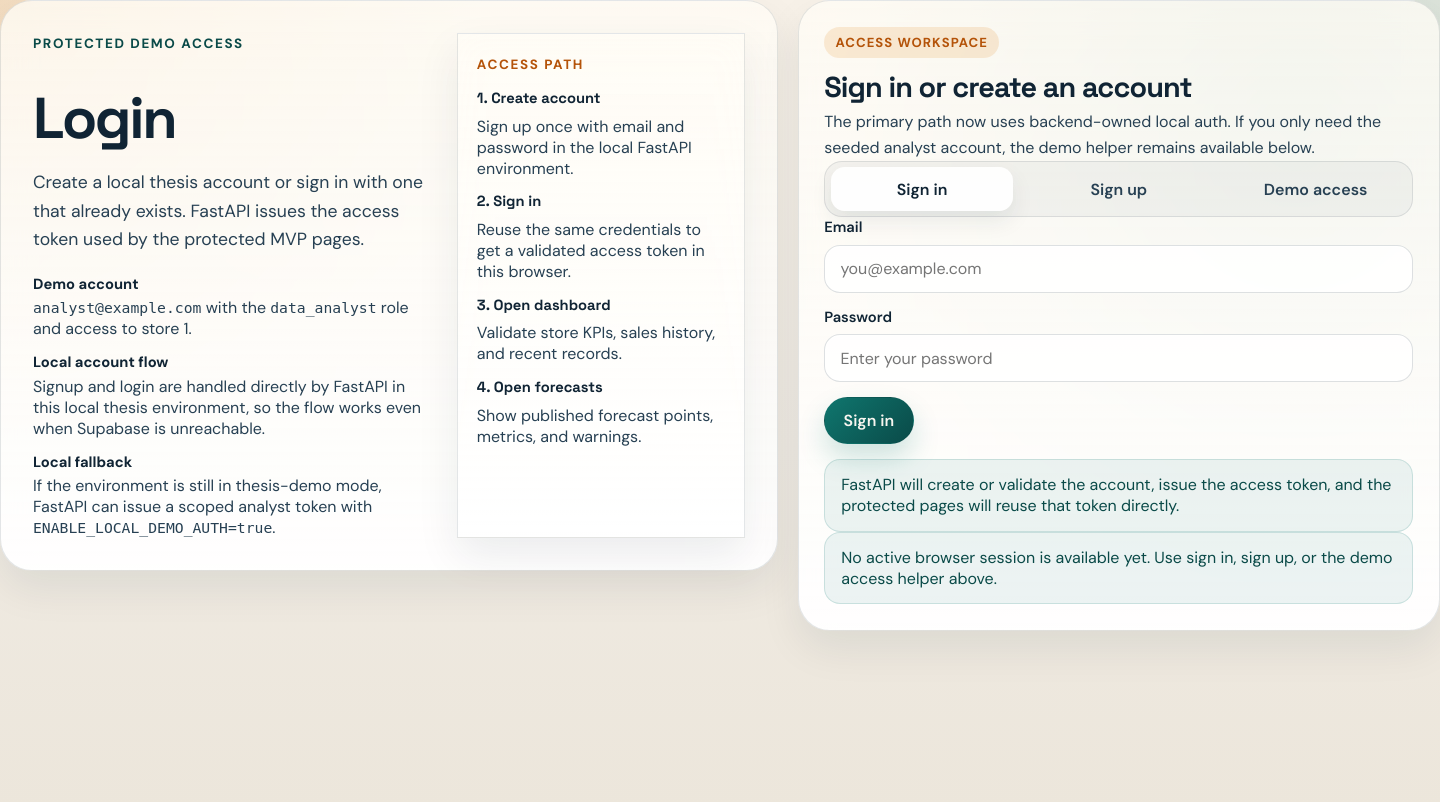
Test: LoginPage › creates an account through the backend-owned signup flow
The width and height of the screenshot is (1440, 802).
Click the button with aria-label "Switch to sign up": [1119, 189] box [1028, 167, 1210, 211]
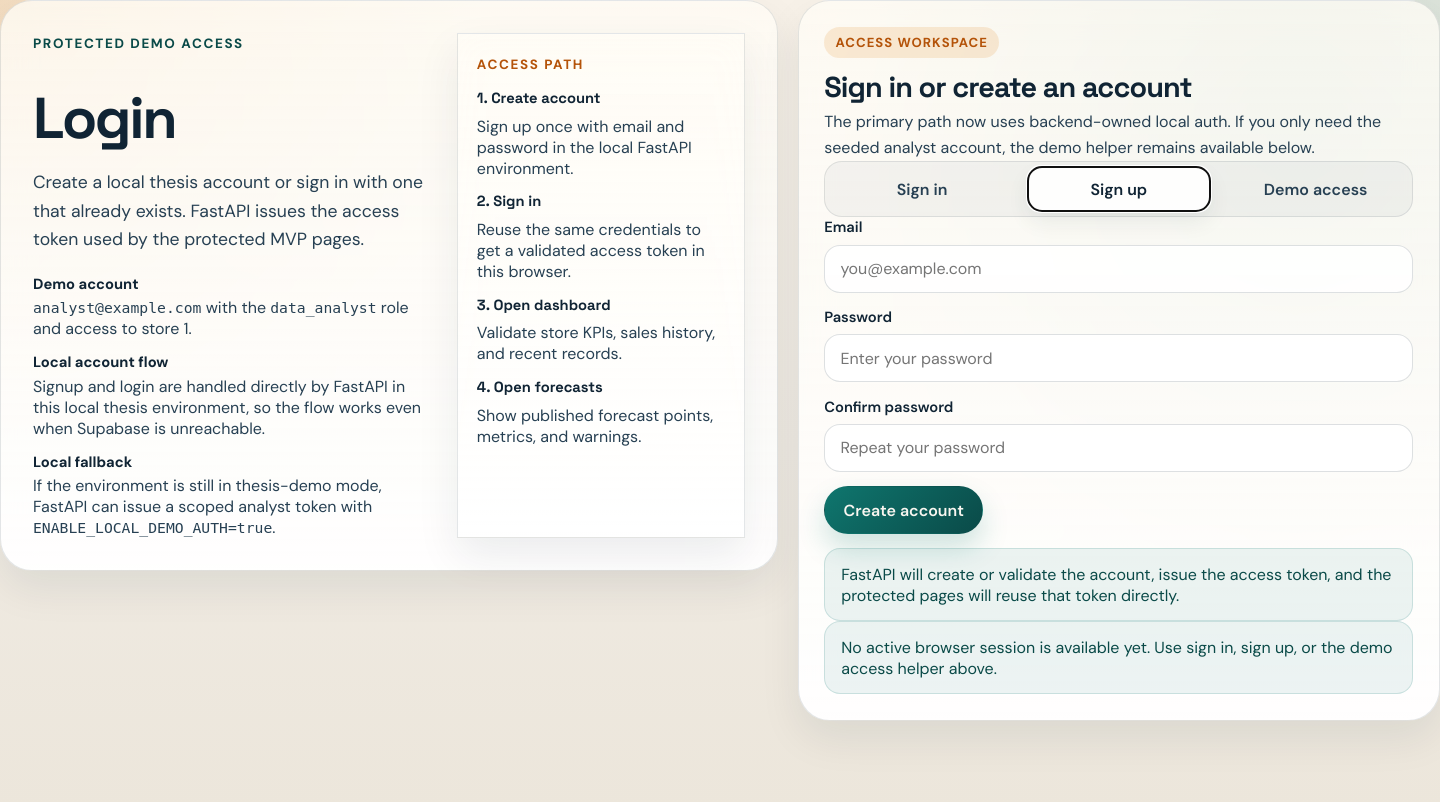
In the field labelled "Email": [1119, 268] box [824, 244, 1413, 292], type "new-user@example.com"
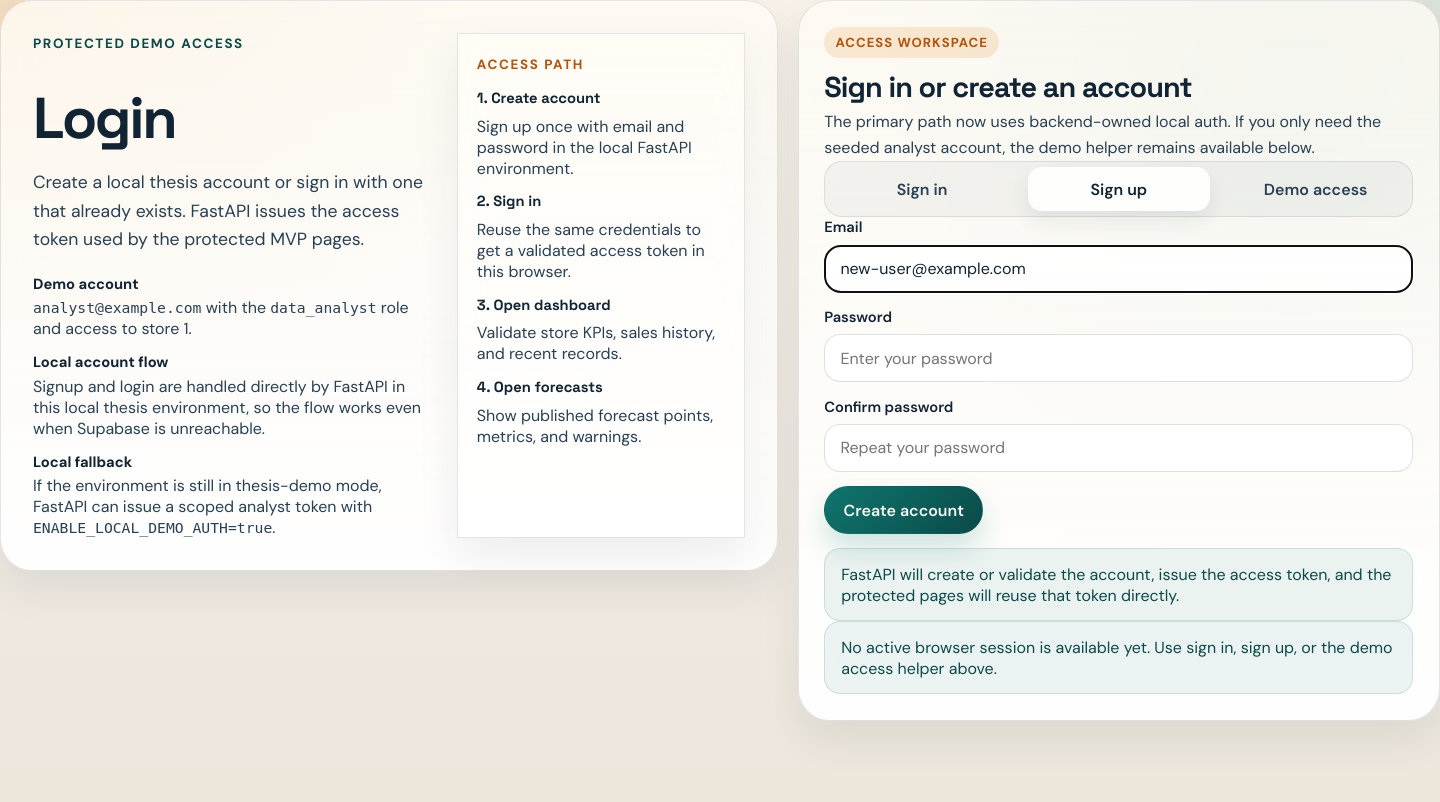
In the password field labelled "Password": [1119, 358] box [824, 334, 1413, 382], type "password-123"
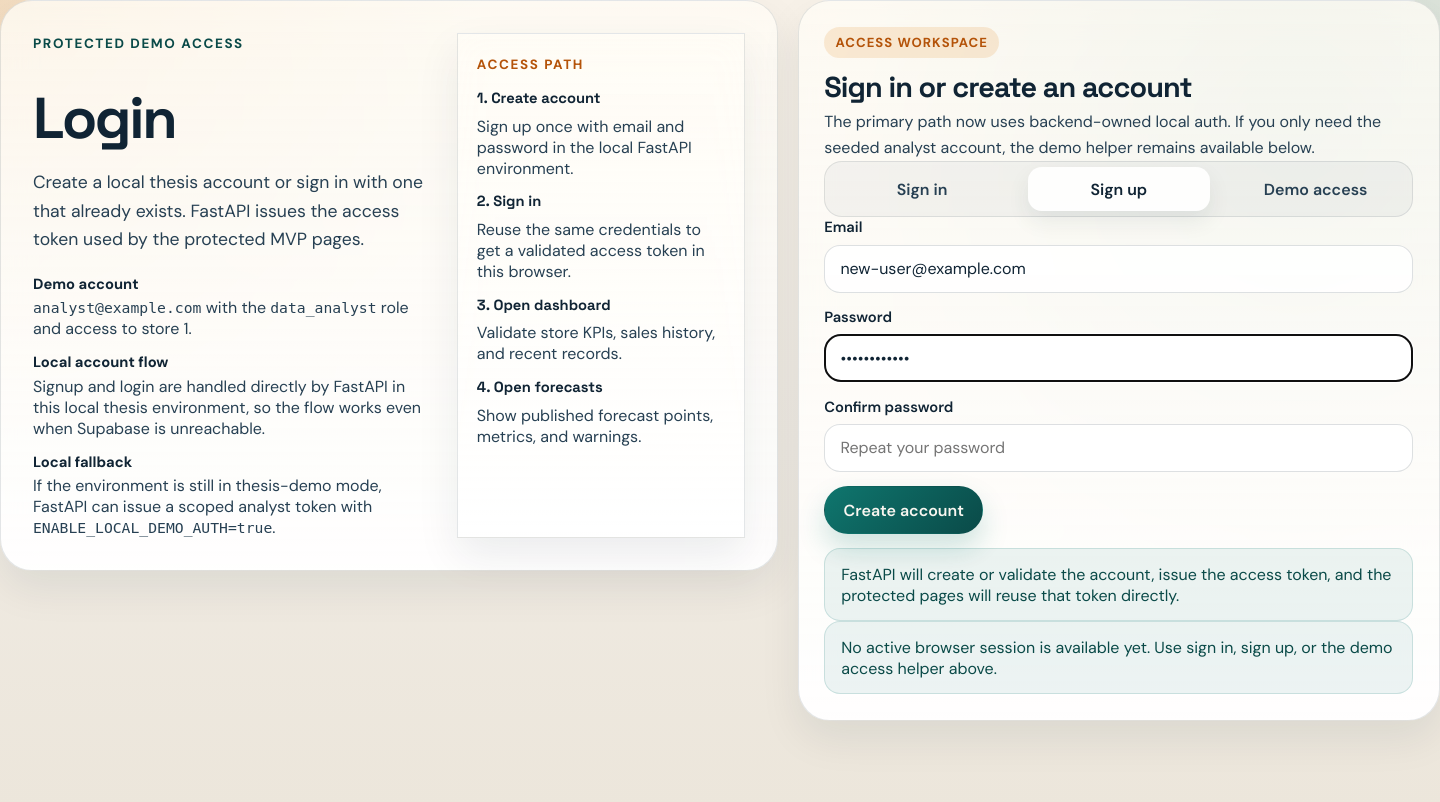
In the password field labelled "Confirm password": [1119, 448] box [824, 424, 1413, 472], type "password-123"
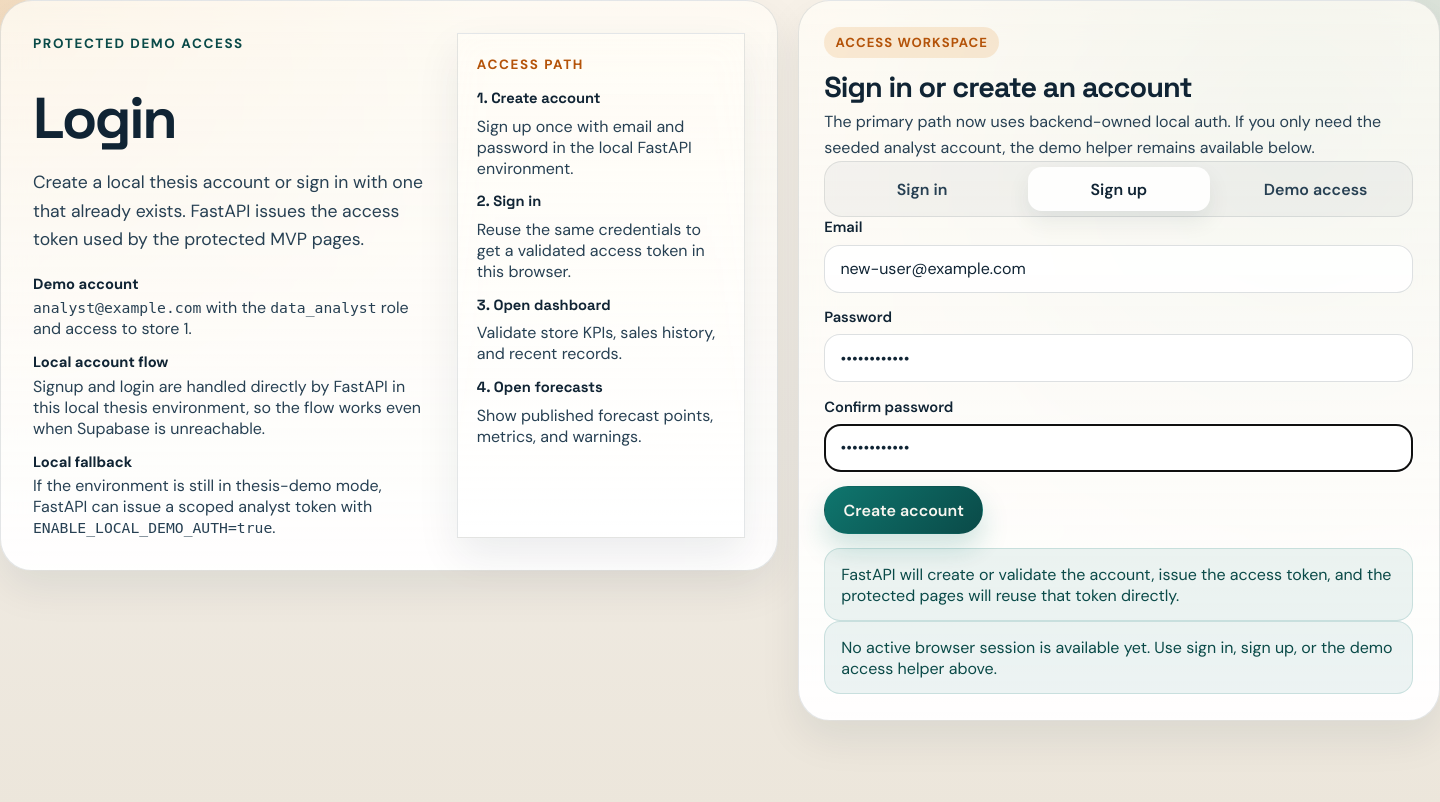
Click the button named "Submit sign up": [904, 510] box [824, 486, 983, 534]
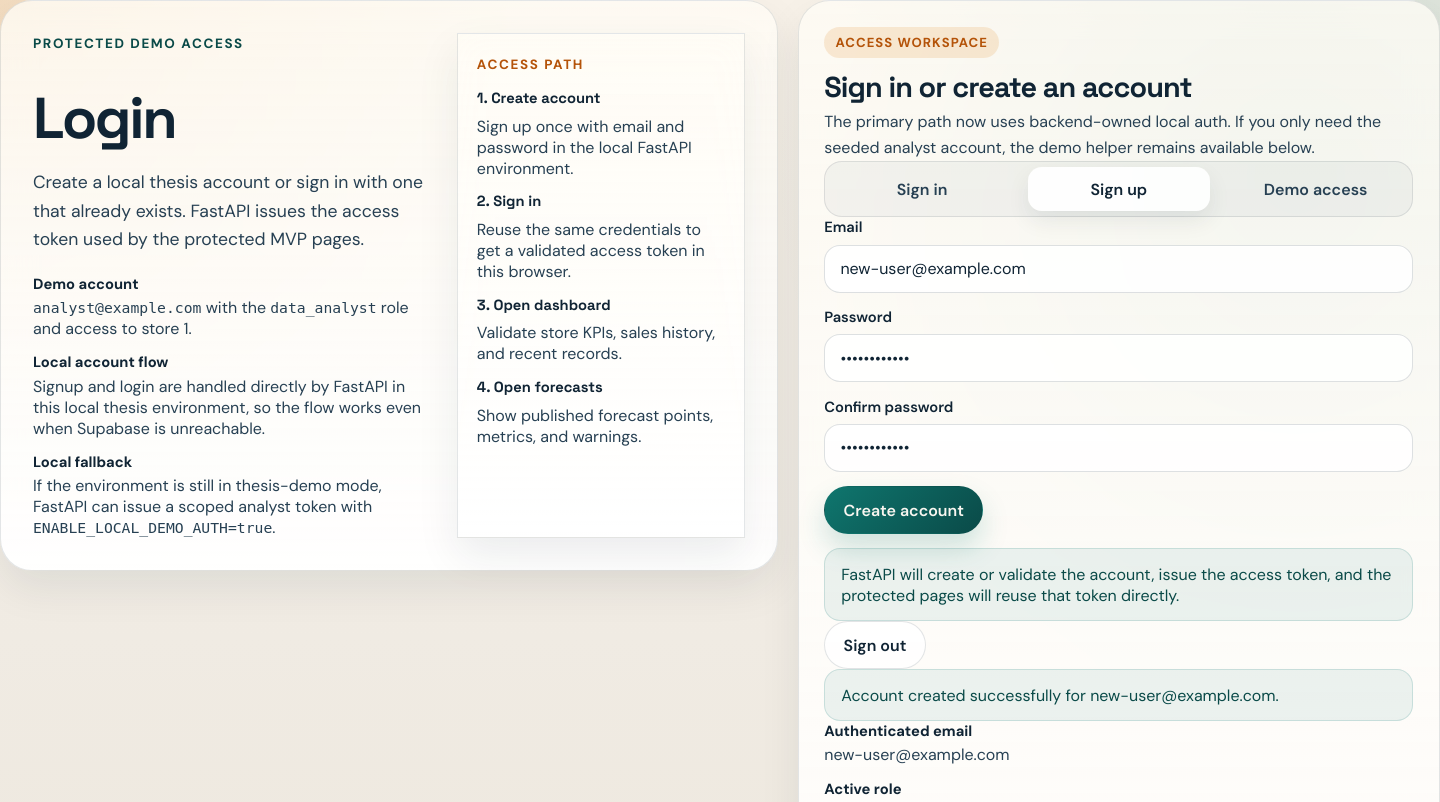
Check: the text "Account created successfully for new-user@example.com." is shown, box [824, 669, 1413, 721]
